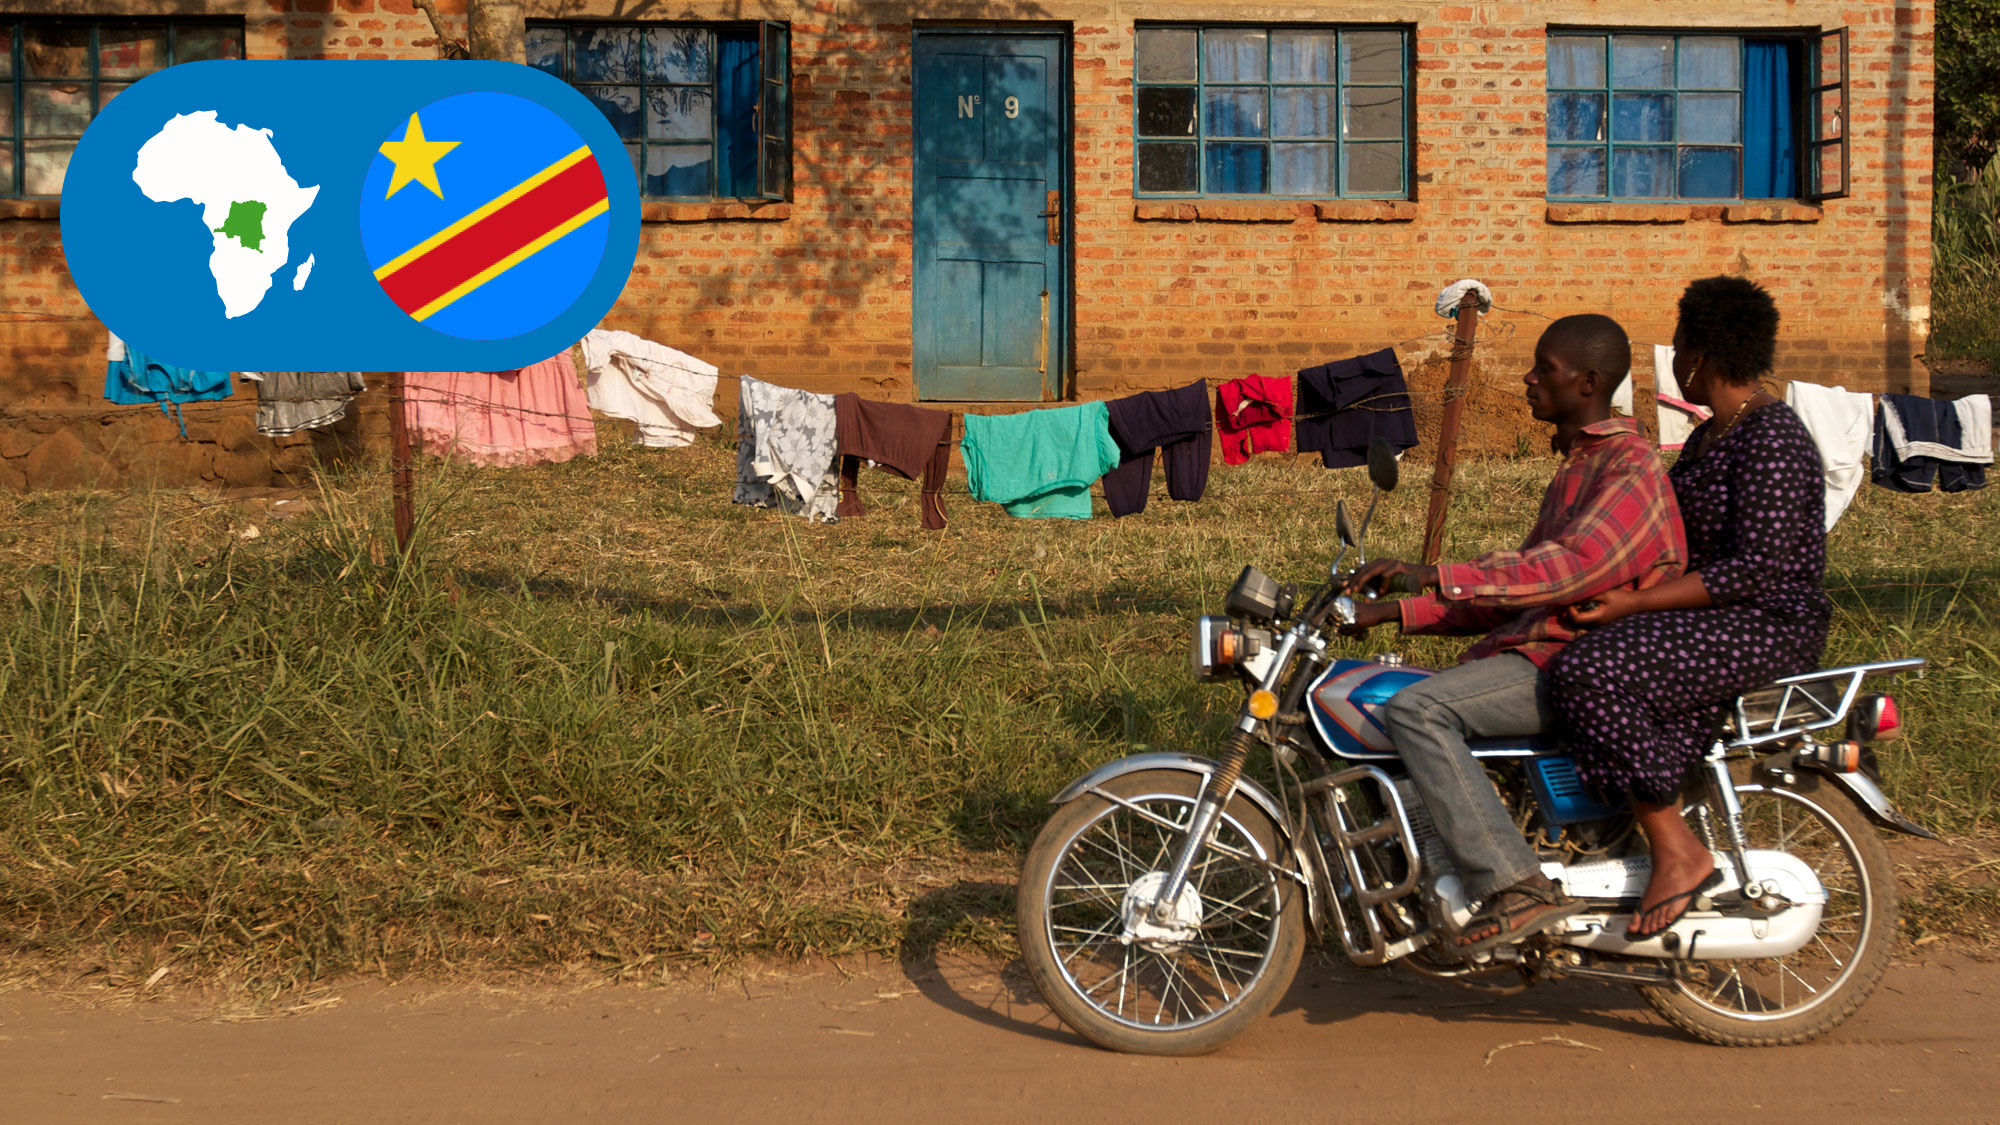motorbike: (981, 505, 1945, 1056)
